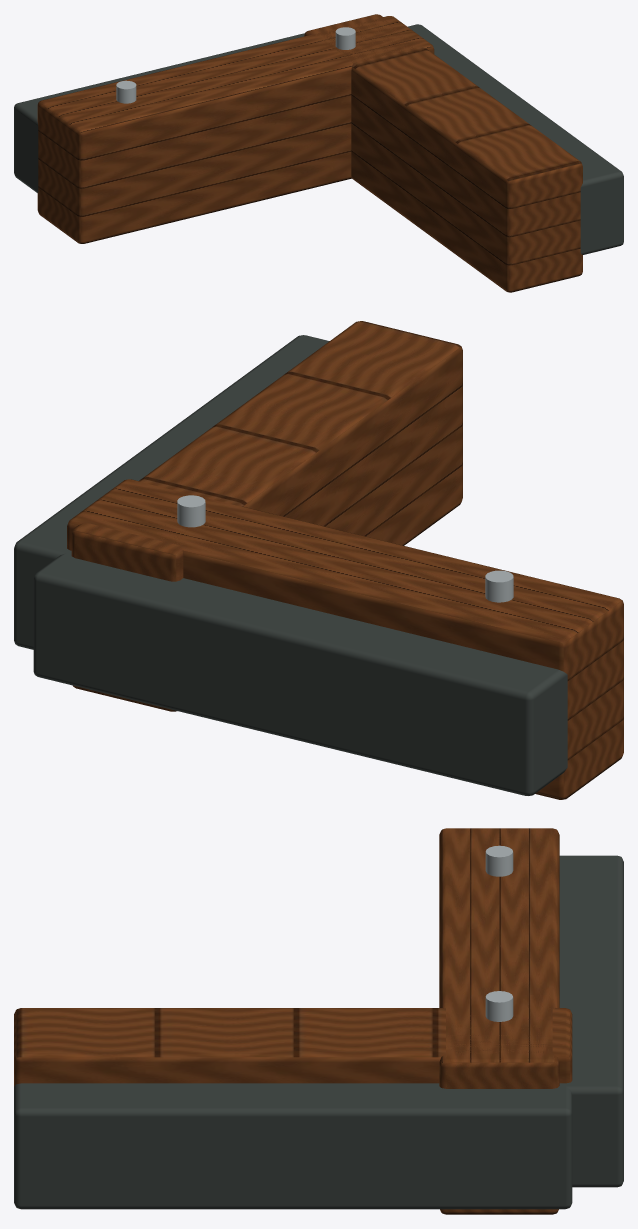
The model's file is flooded-and-coastal-survival-corner-docking-buffer-240be967__20096.glb.
3 views of the same model, one above another, from view 1: azimuth 30°, elevation 25°; view 2: azimuth 150°, elevation 25°; view 3: azimuth 270°, elevation 25° (orthographic). The views are drawn at different scales.
Parts seen in each view (by area): view 1: corner-docking-buffer; view 2: corner-docking-buffer; view 3: corner-docking-buffer.
Part boxes in pixels (left/top/right/bottom): corner-docking-buffer: left=14, top=14, right=623, bottom=292; corner-docking-buffer: left=14, top=321, right=623, bottom=799; corner-docking-buffer: left=14, top=828, right=623, bottom=1214.
Bounding box in the file's own units: 0.71 × 0.225 × 0.71.
Materials: 3 (1 with a texture image).
